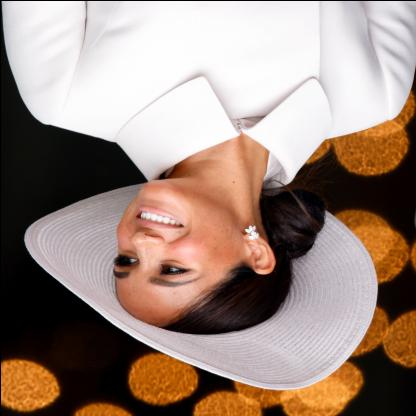hat: (6, 173, 374, 393)
